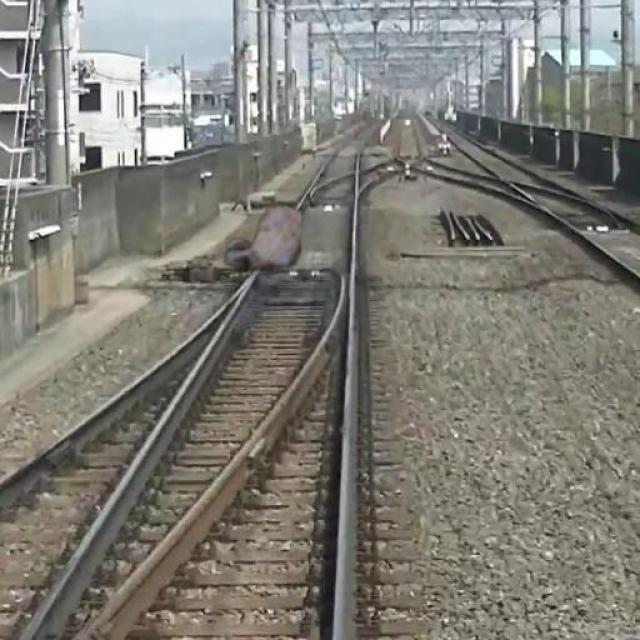Stone: (221, 200, 310, 270)
